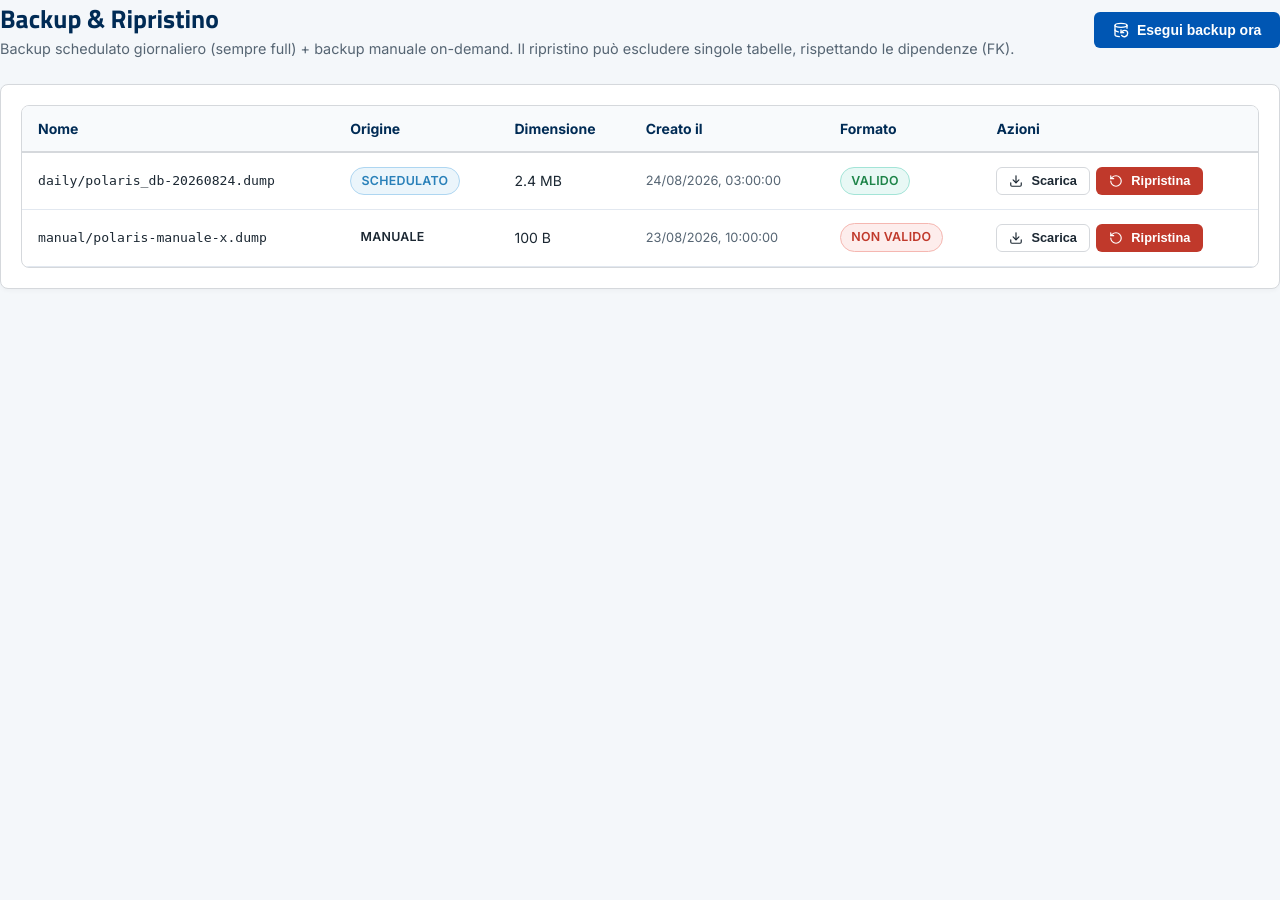
BackupView › ripristina: apre il modale, carica le tabelle, il bottone conferma resta disabilitato finché non si digita RIPRISTINA
This screenshot has width=1280, height=900.
Click the button "Ripristina" in the row of "daily/polaris_db-20260824.dump": (1150, 181) [1096, 167, 1203, 195]
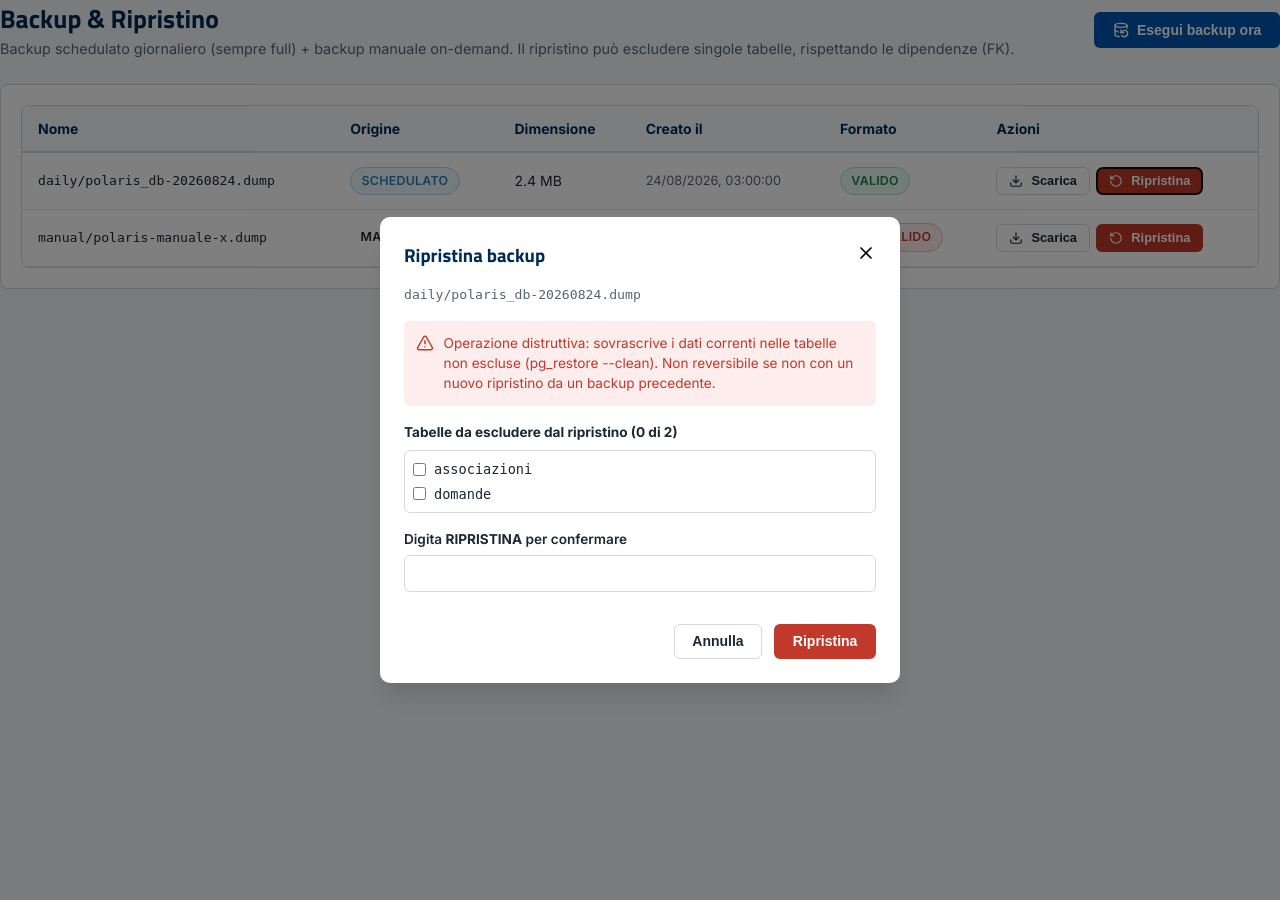
Expected: the text "associazioni" is shown, [413, 461, 532, 477]
Expected: the text "domande" is shown, [413, 486, 491, 502]
Expected: the button "Ripristina" is disabled, [774, 624, 876, 659]
